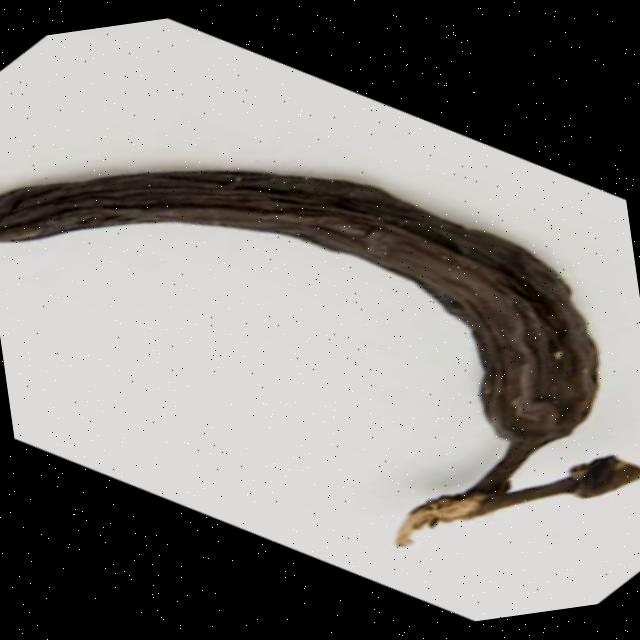Rotten: (0, 115, 615, 554)
